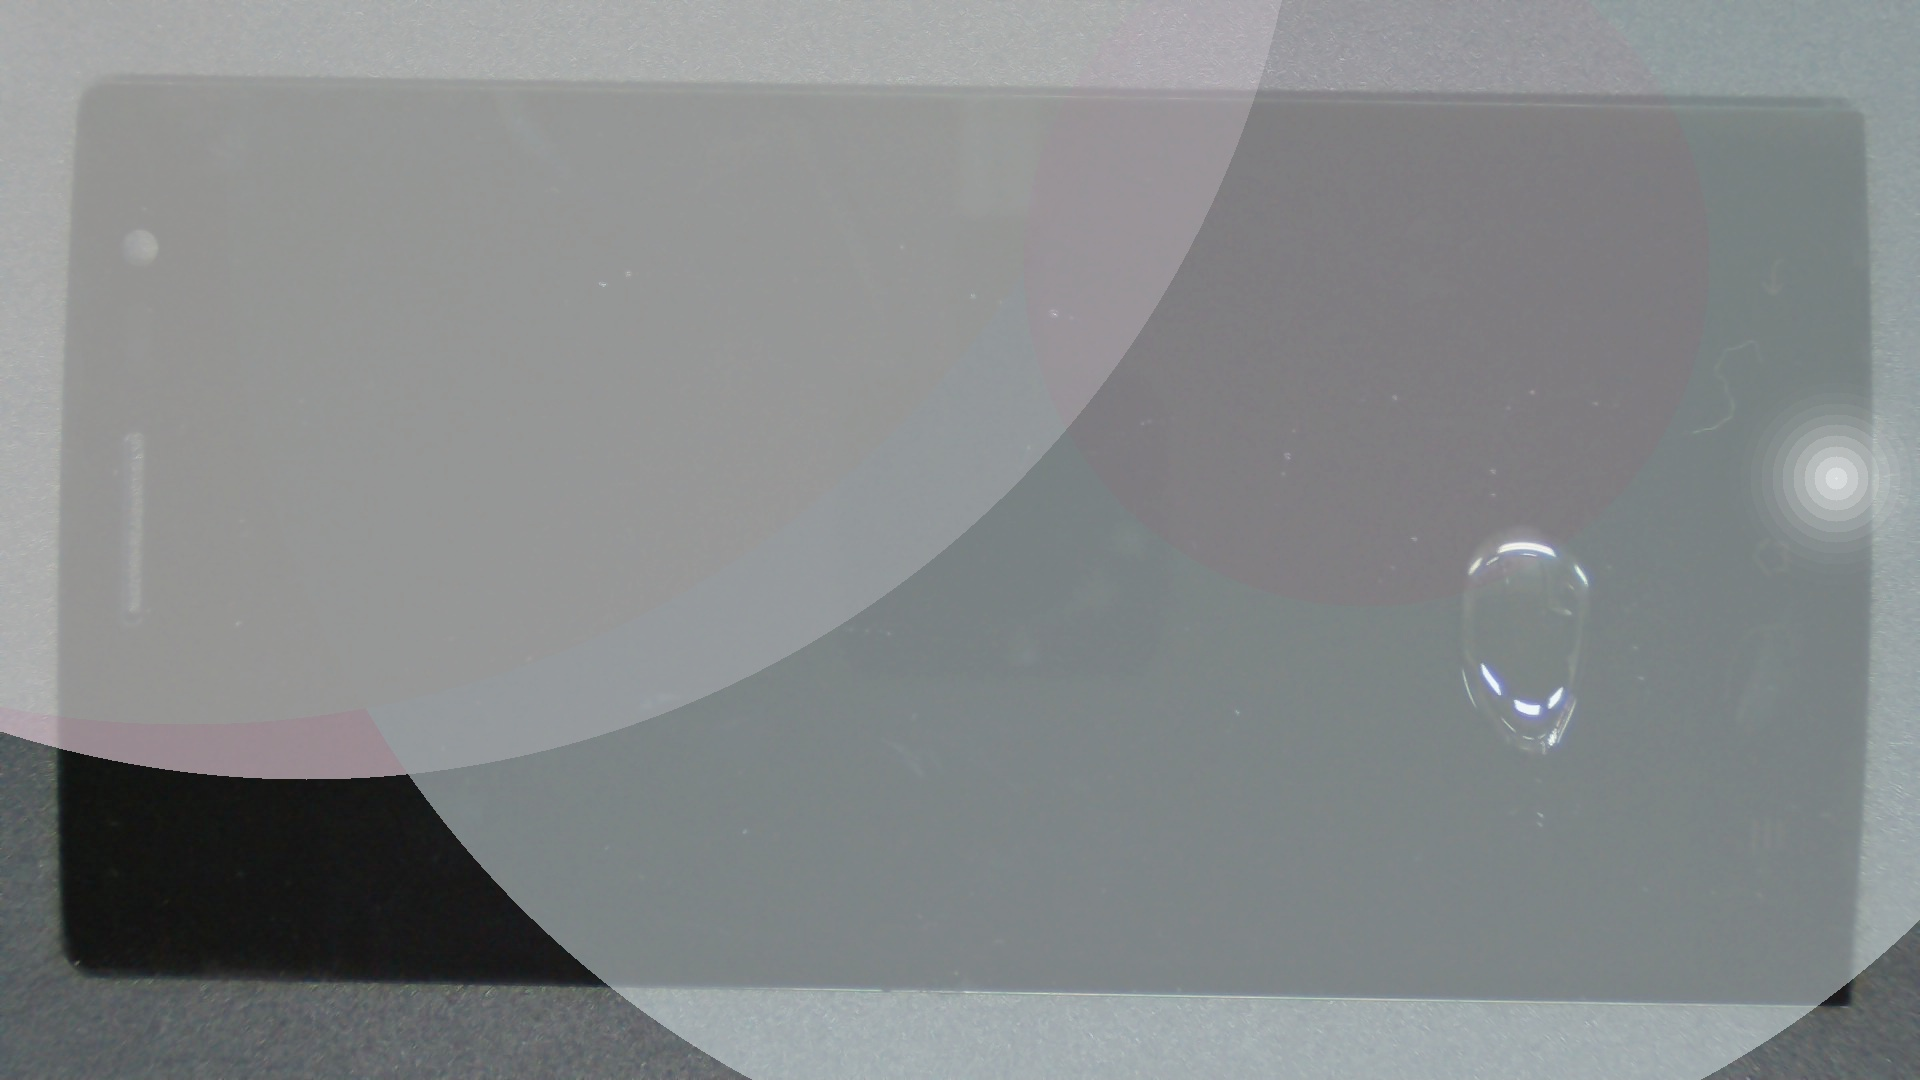oil: (761, 262, 1920, 790)
